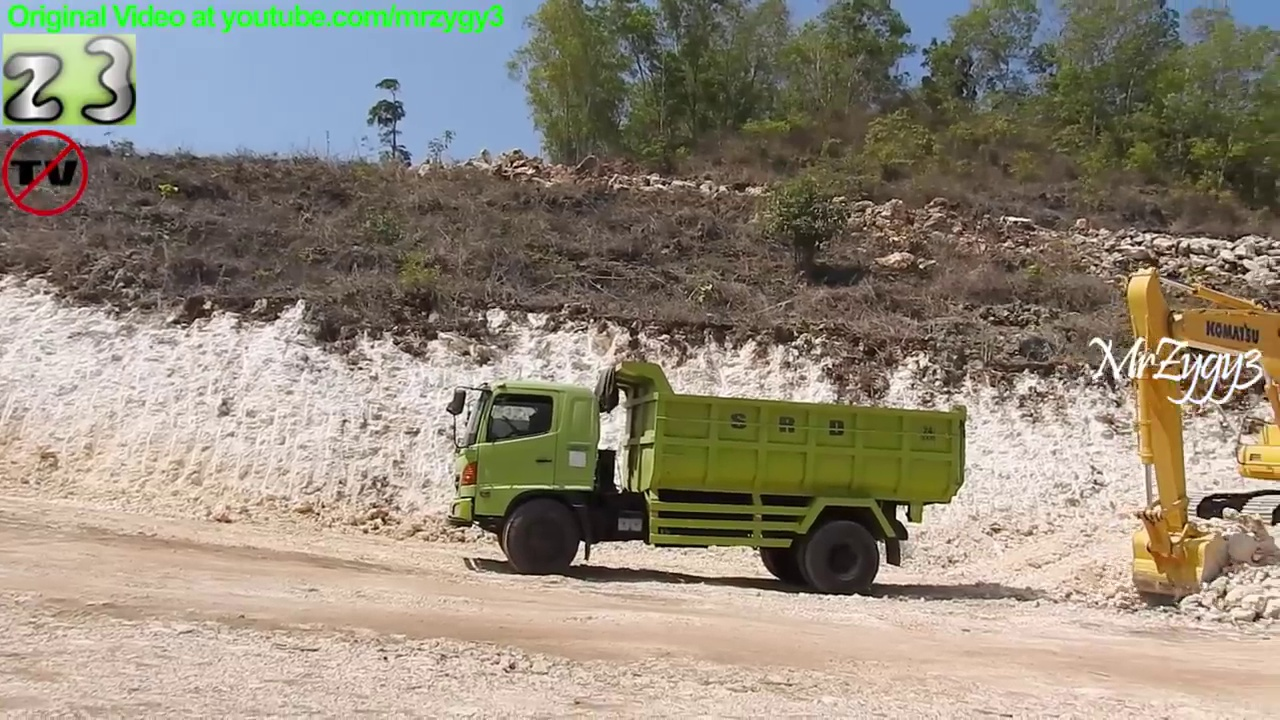excavator: (1120, 258, 1280, 613)
truck: (440, 354, 972, 600)
